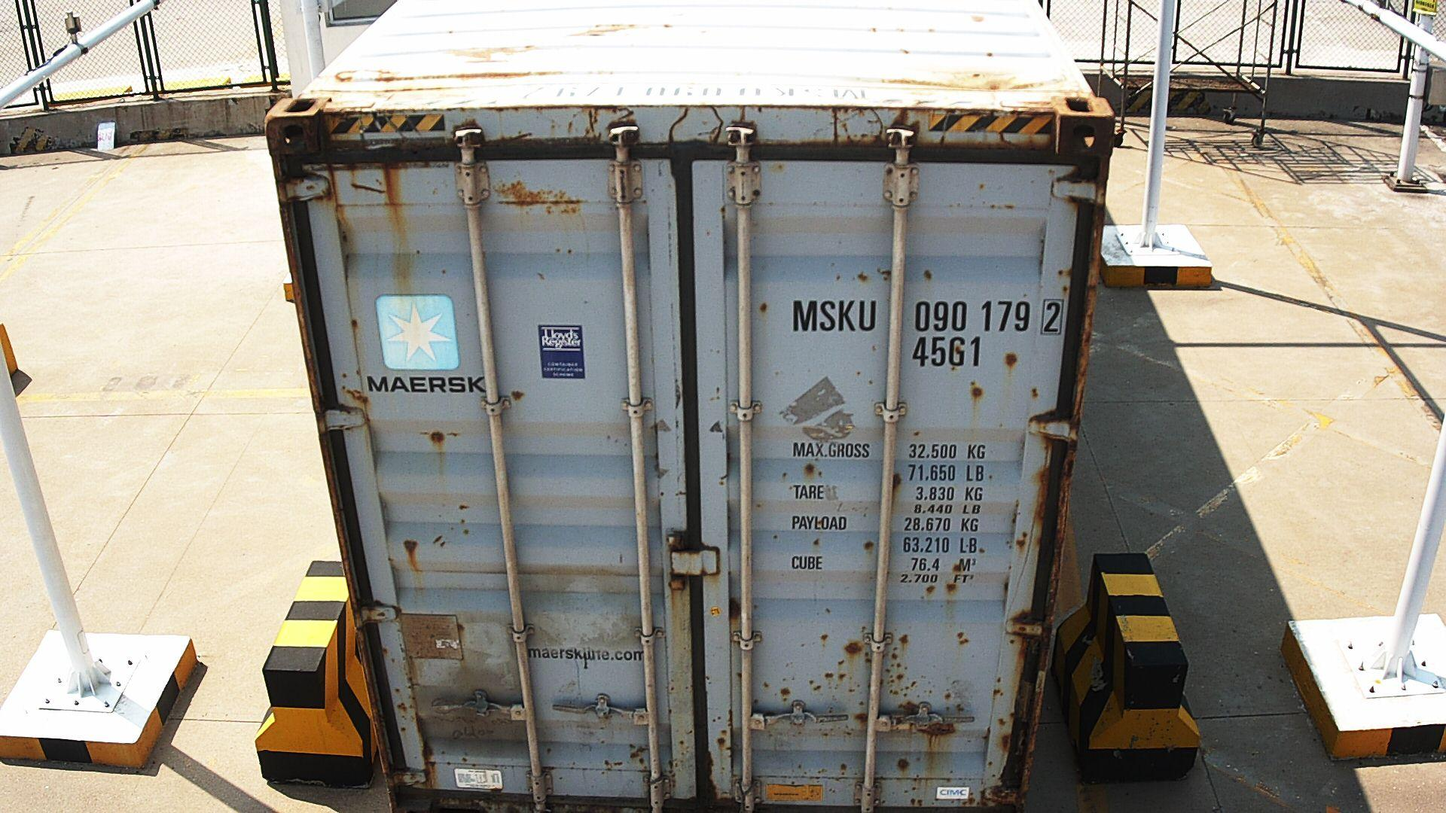container-numbers: (786, 295, 1068, 337), (910, 336, 984, 370)
